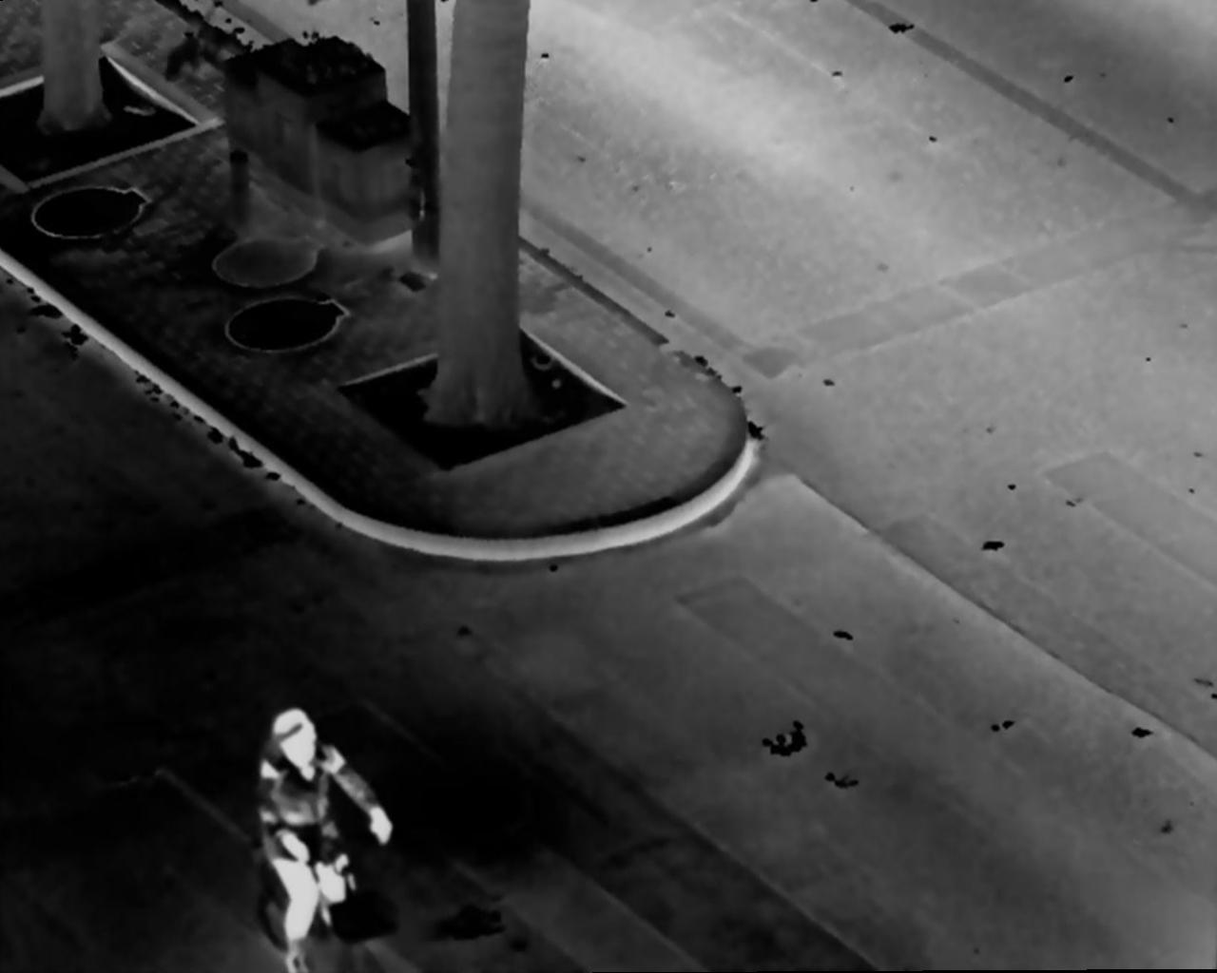person: (245, 698, 415, 973)
